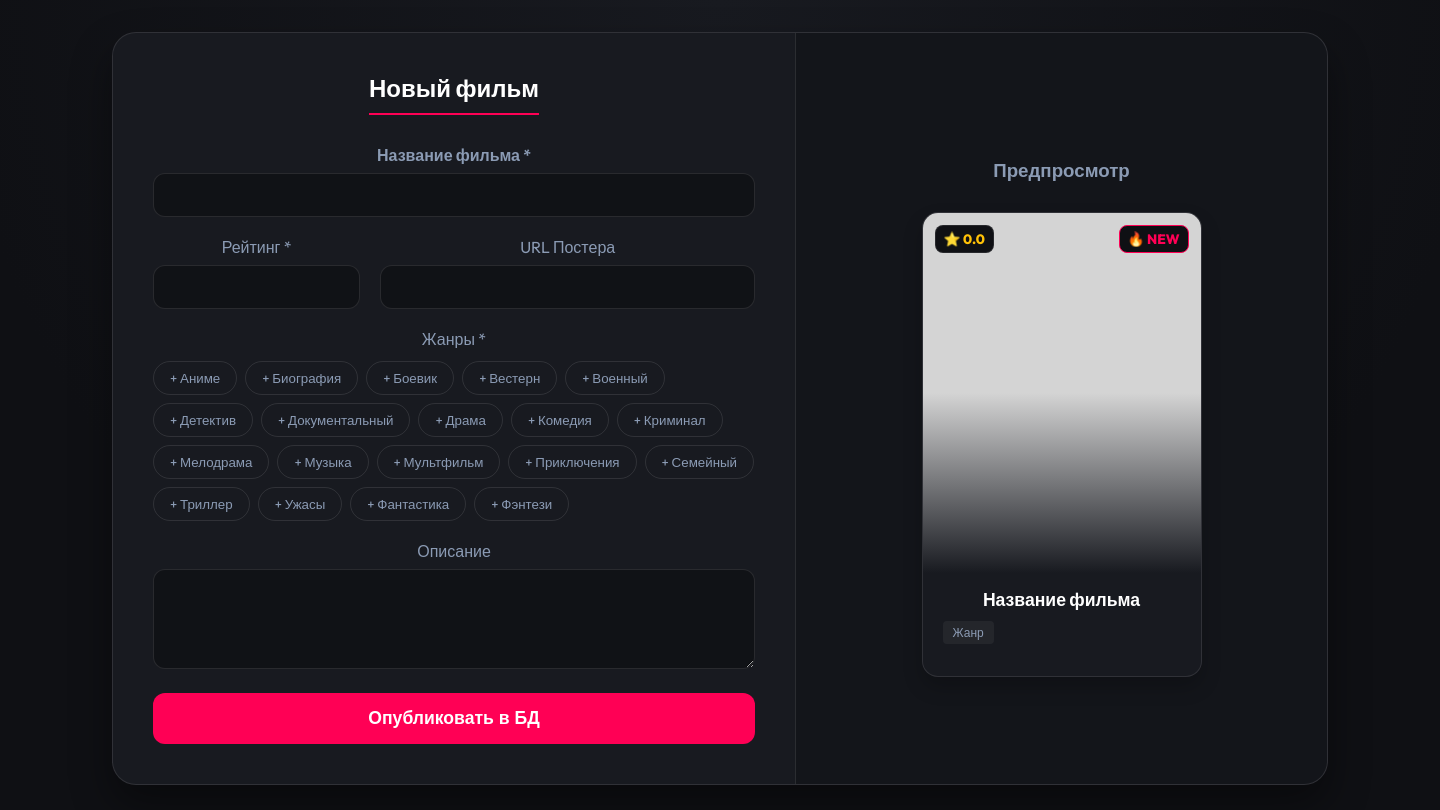
it: Тестирование компонента AddMoviePage › Должен показывать ошибку валидации при коротком названии
The width and height of the screenshot is (1440, 810).
Type "А" into the field below "Название фильма *" at (454, 195), box [153,173,755,217]
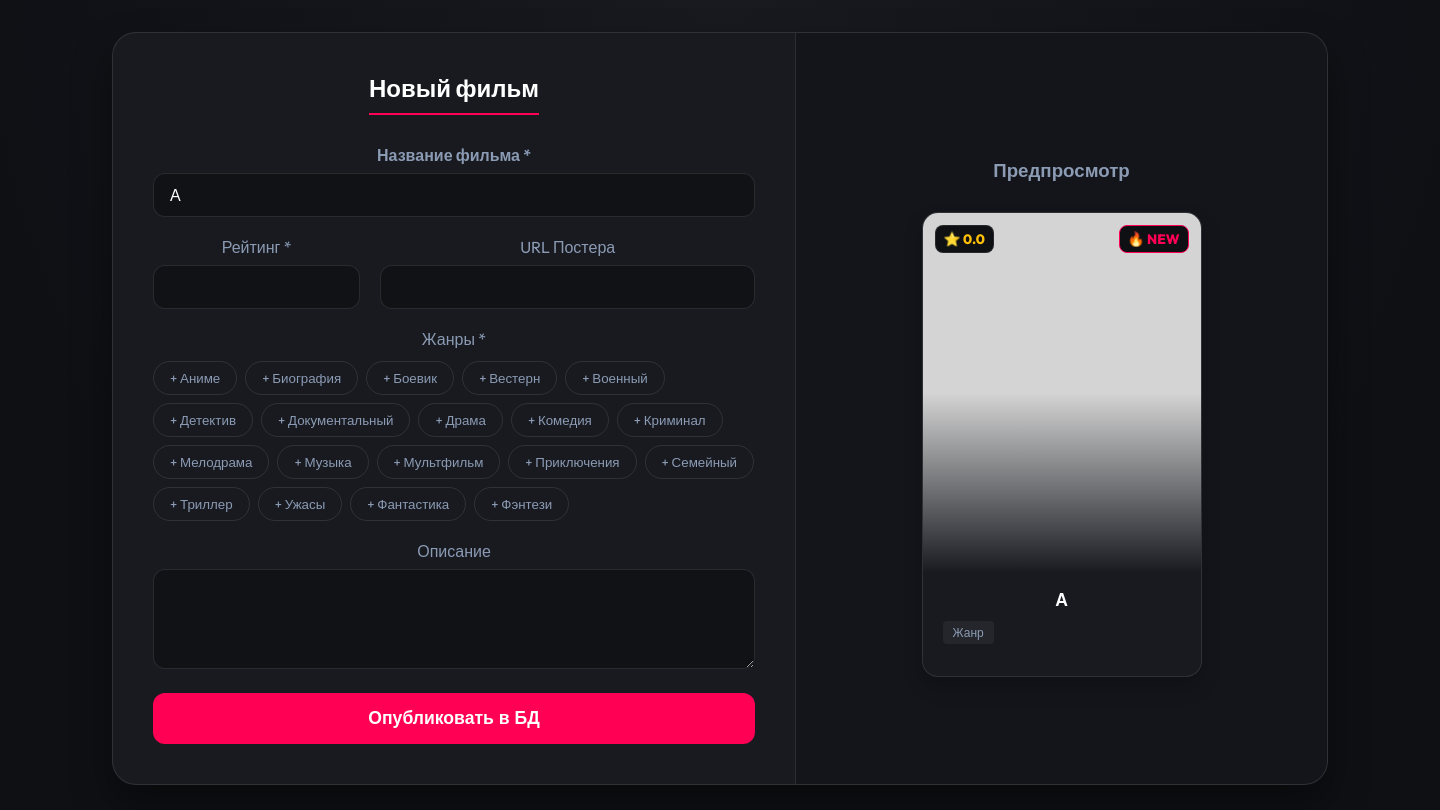
Leave the field below "Название фильма *", box [153,173,755,217]
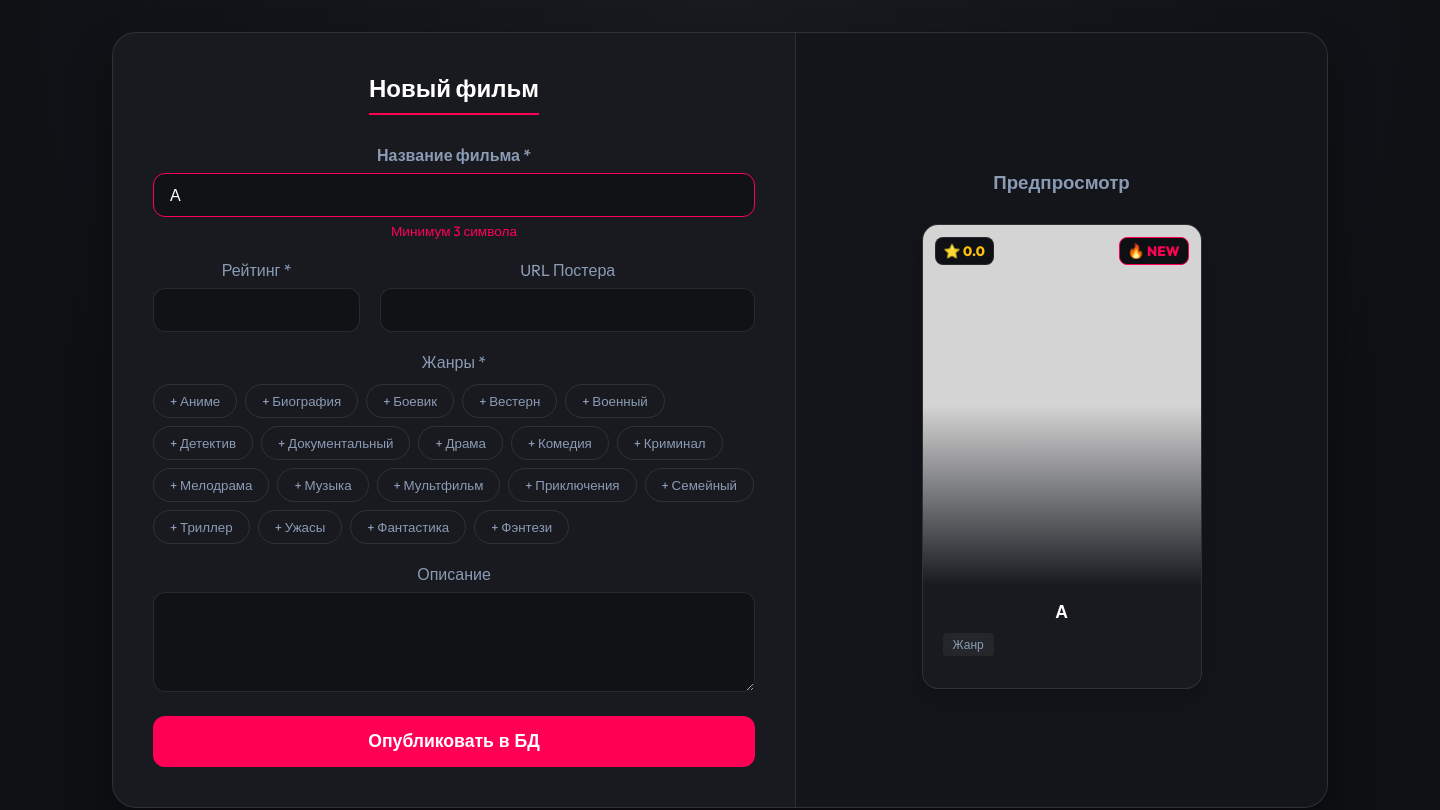
Expected: the text "Минимум 3 символа" is shown, [391,222,517,240]
